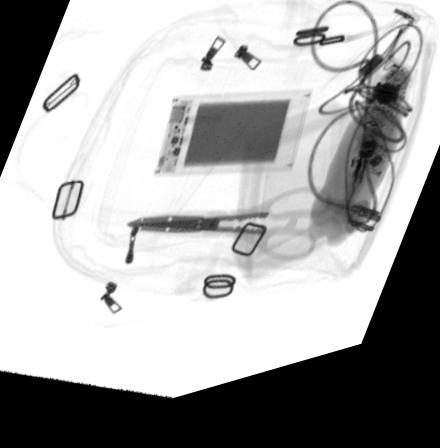Powerbank: (153, 103, 315, 189)
Scissors: (123, 201, 334, 277)
